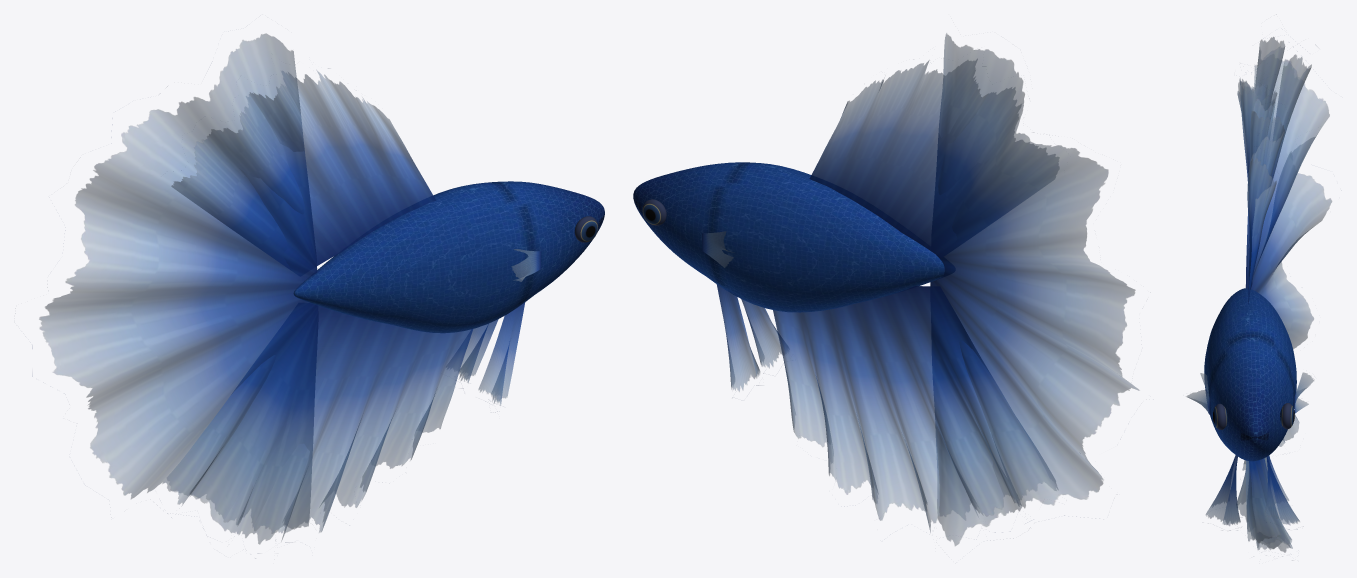
The model's file is betta.glb.
3 views of the same model, side by side, from view 1: azimuth 30°, elevation 25°; view 2: azimuth 150°, elevation 25°; view 3: azimuth 270°, elevation 25° (orthographic). The views are drawn at different scales.
Visible parts, largest first — view 1: Kuyruk, Anal_Yuzgec, Betta_Govde, Sirt_Yuzgeci, Karin_Yuzgeci_S, Karin_Yuzgeci_D; view 2: Kuyruk, Anal_Yuzgec, Betta_Govde, Sirt_Yuzgeci, Karin_Yuzgeci_D, Karin_Yuzgeci_S, Gogus_Yuzgeci_D; view 3: Kuyruk, Betta_Govde, Sirt_Yuzgeci, Anal_Yuzgec, Karin_Yuzgeci_S, Karin_Yuzgeci_D, Gogus_Yuzgeci_S, Gogus_Yuzgeci_D, Goz_1, Goz_-1.
Boxes of the visible parts, left/top/right/bottom form: Kuyruk: left=32, top=33, right=318, bottom=544; Anal_Yuzgec: left=167, top=306, right=473, bottom=541; Betta_Govde: left=293, top=181, right=604, bottom=333; Sirt_Yuzgeci: left=171, top=70, right=436, bottom=270; Karin_Yuzgeci_S: left=478, top=302, right=525, bottom=405; Karin_Yuzgeci_D: left=456, top=319, right=498, bottom=388; Kuyruk: left=930, top=33, right=1139, bottom=545; Anal_Yuzgec: left=773, top=286, right=1057, bottom=532; Betta_Govde: left=633, top=162, right=944, bottom=312; Sirt_Yuzgeci: left=809, top=59, right=1058, bottom=258; Karin_Yuzgeci_D: left=716, top=284, right=760, bottom=391; Karin_Yuzgeci_S: left=741, top=299, right=788, bottom=373; Gogus_Yuzgeci_D: left=702, top=231, right=734, bottom=267; Kuyruk: left=1245, top=37, right=1331, bottom=509; Betta_Govde: left=1204, top=288, right=1296, bottom=461; Sirt_Yuzgeci: left=1237, top=78, right=1284, bottom=303; Anal_Yuzgec: left=1237, top=438, right=1292, bottom=552; Karin_Yuzgeci_S: left=1206, top=455, right=1240, bottom=530; Karin_Yuzgeci_D: left=1264, top=455, right=1299, bottom=529; Gogus_Yuzgeci_S: left=1186, top=373, right=1210, bottom=414; Gogus_Yuzgeci_D: left=1294, top=372, right=1314, bottom=413; Goz_1: left=1280, top=403, right=1294, bottom=429; Goz_-1: left=1213, top=403, right=1227, bottom=429.
Size of the model in its own units: 3.89 by 3.7 by 1.02.
Materials: 10 (10 with a texture image).
